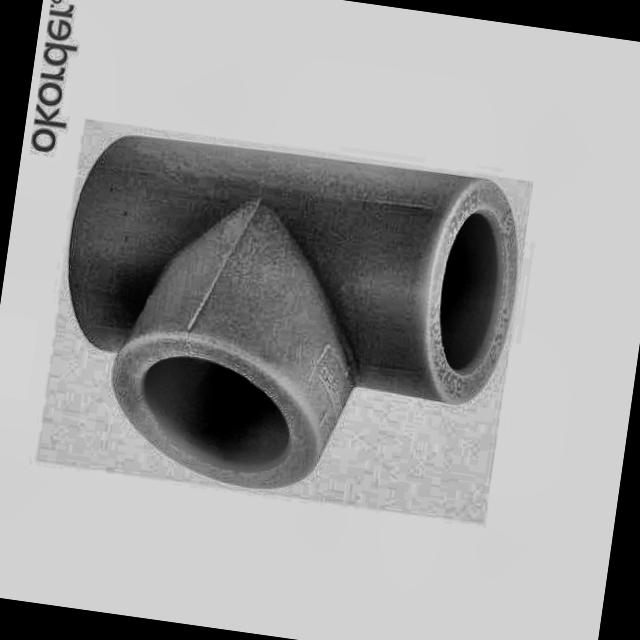EQUALTEE: (64, 131, 517, 489)
